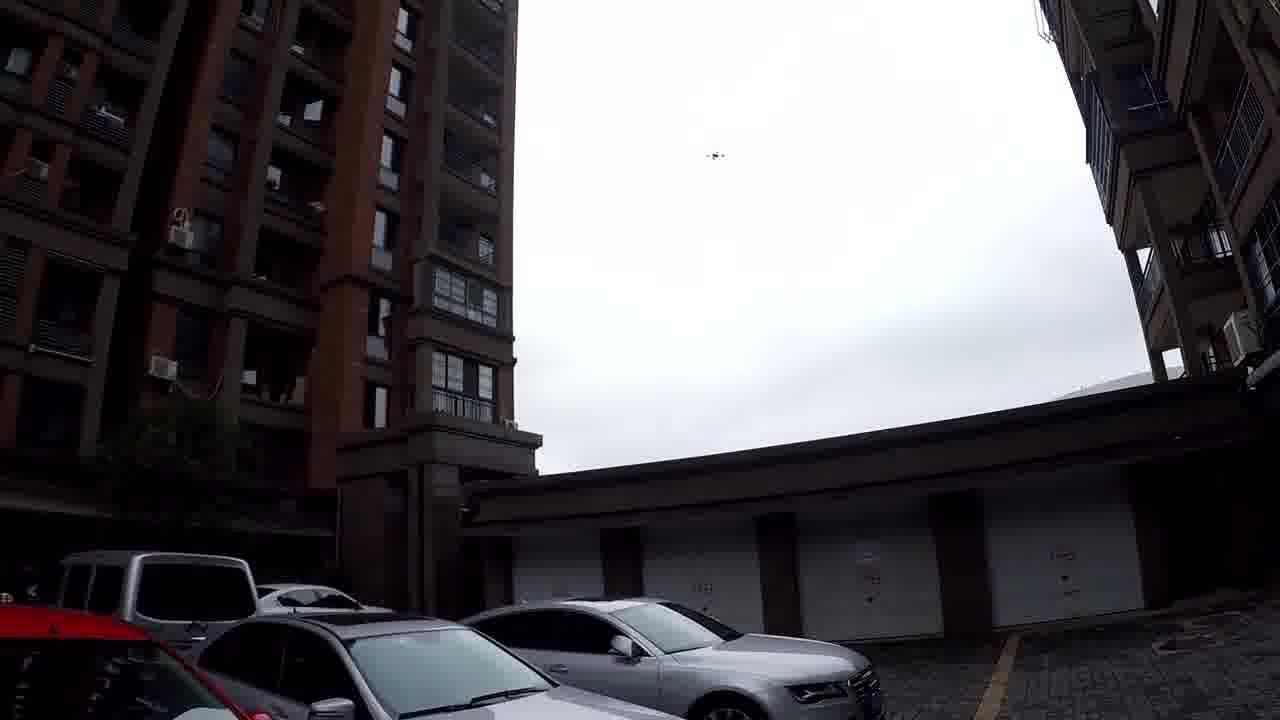drone: (689, 136, 740, 175)
